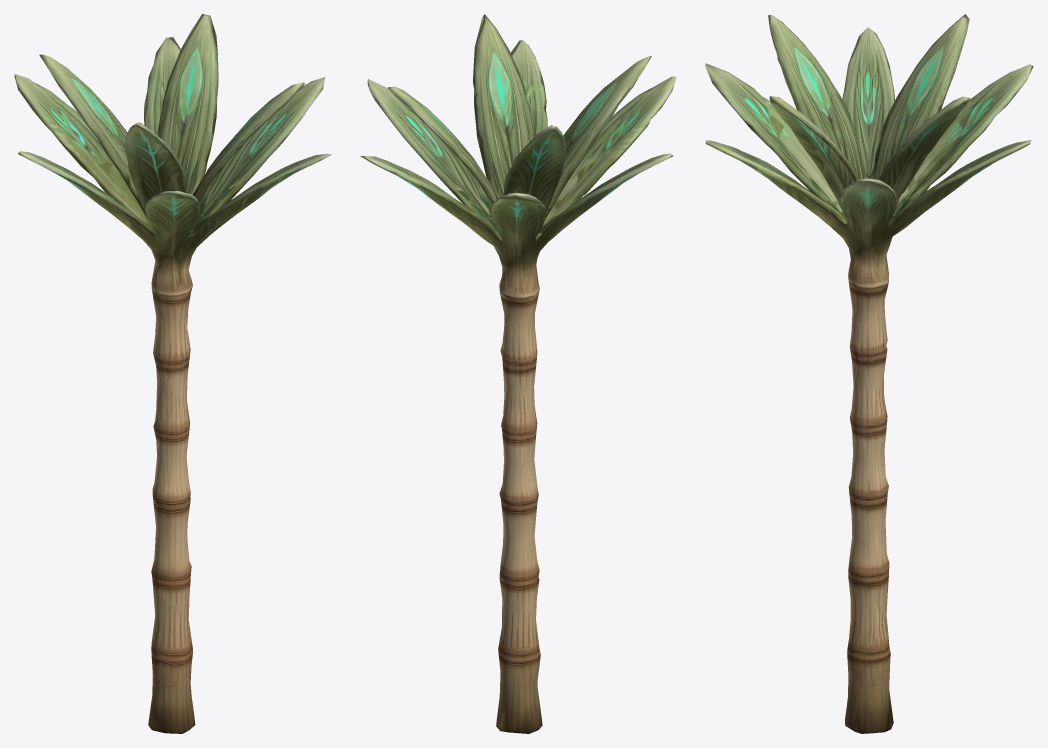
The picture shows the model from 3 angles, left to right: view 1: azimuth 30°, elevation 25°; view 2: azimuth 150°, elevation 25°; view 3: azimuth 270°, elevation 25°; orthographic projection. The views are drawn at different scales.
Visible parts, largest first — view 1: Mesh_0; view 2: Mesh_0; view 3: Mesh_0.
Part boxes in pixels (<box>): Mesh_0: <box>14,14,331,733</box>; Mesh_0: <box>360,14,676,733</box>; Mesh_0: <box>705,14,1033,733</box>.
Bounding box in the file's own units: 0.9348 × 1.92 × 0.8491.
1 material, 1 textured.
